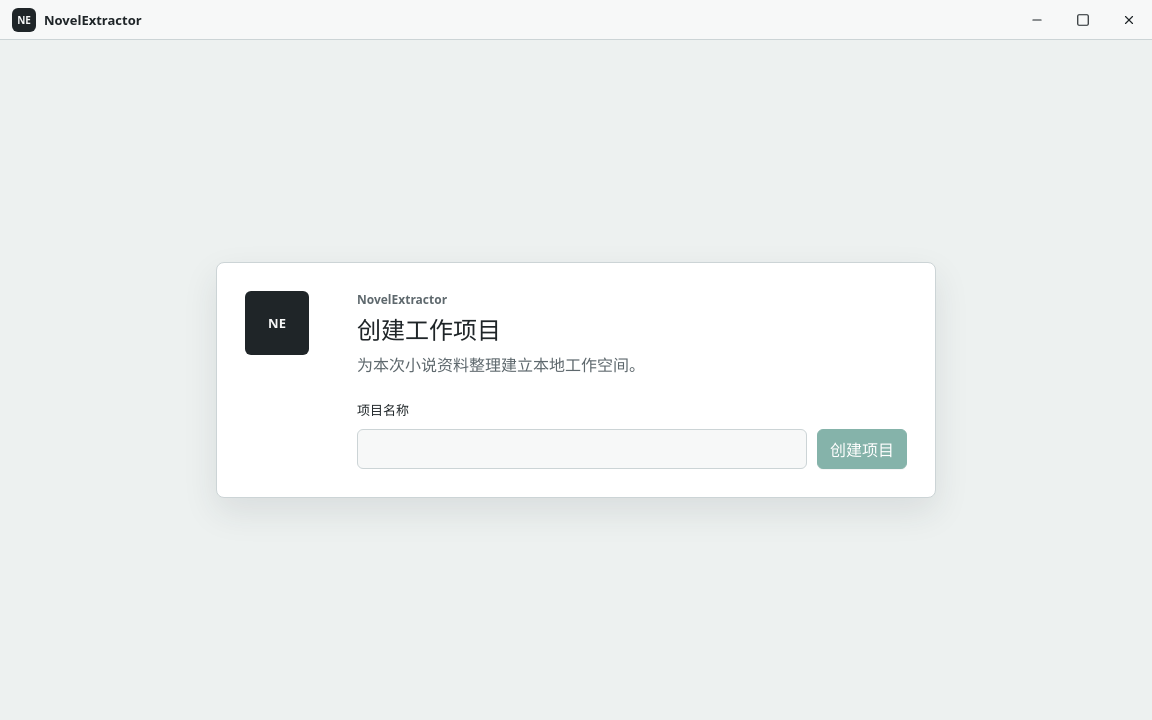
Test case: desktop workbench shell › creates a project through the desktop api and shows workbench navigation
The image size is (1152, 720).
Type "仙途资料" into the field labelled "项目名称". click: (582, 449)
box: [357,429,807,469]
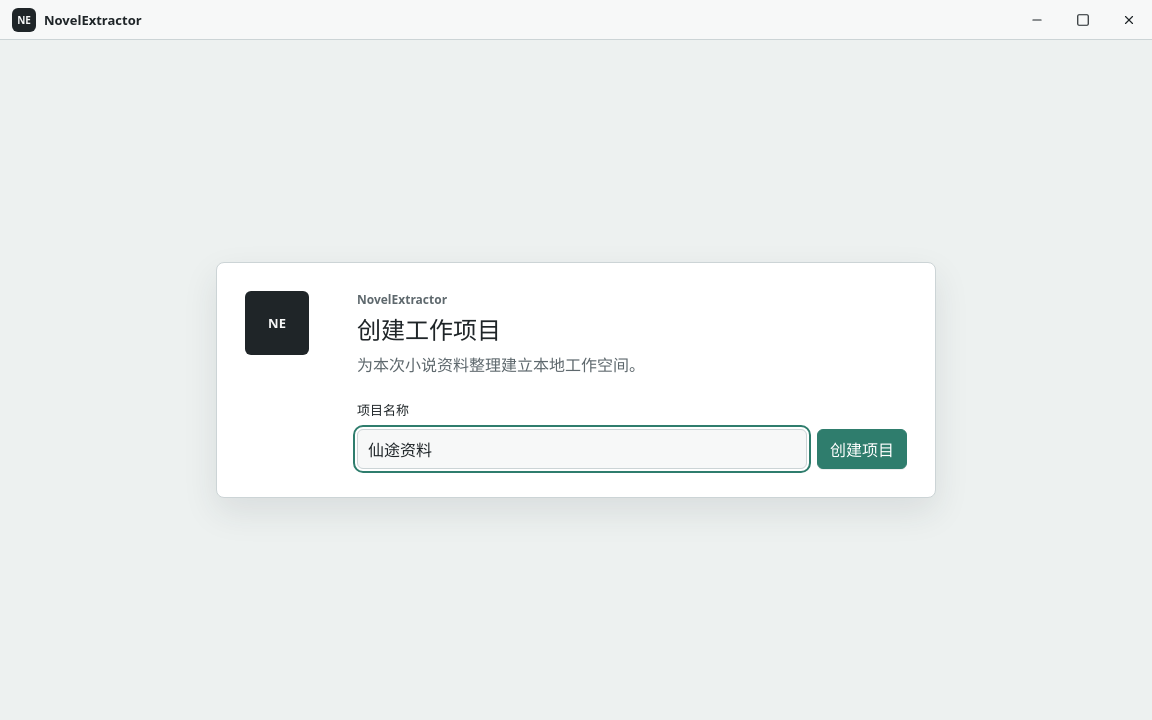
Click the button "创建项目". click: (862, 449)
box: [817,429,907,469]
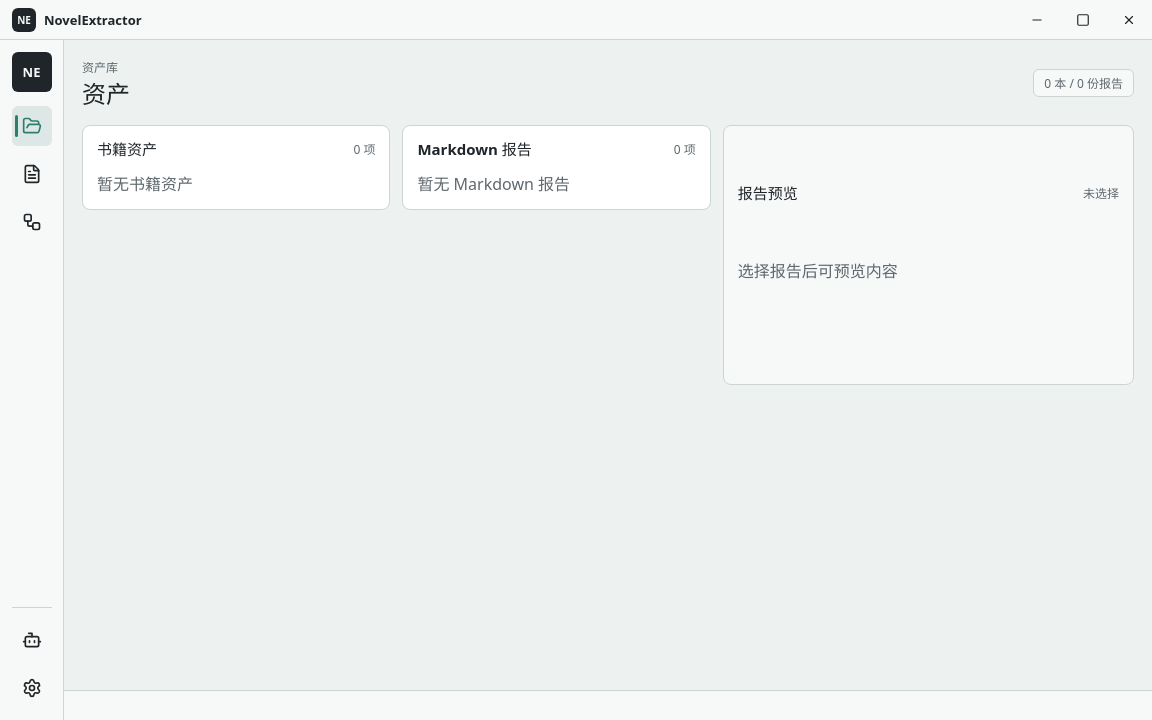
Expected: the button named "资源" is shown, [12,106,52,146]
Expected: the button named "提取" is shown, [12,154,52,194]
Expected: the button named "关系图" is shown, [12,202,52,242]
